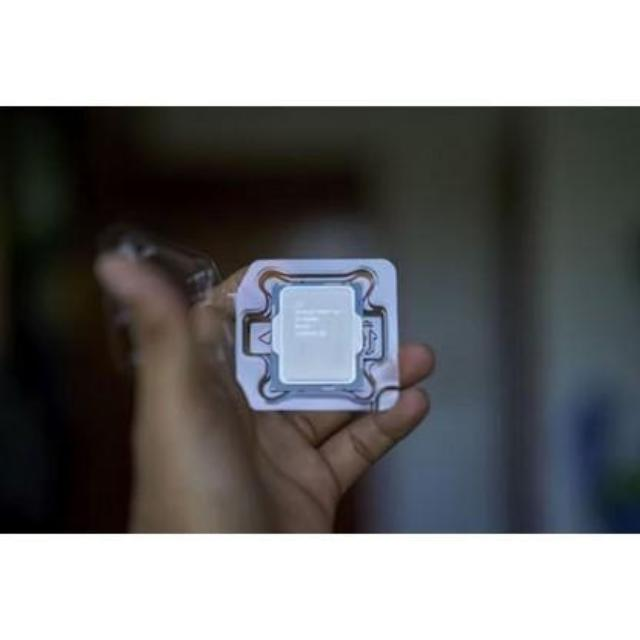CPU: (270, 285, 362, 393)
